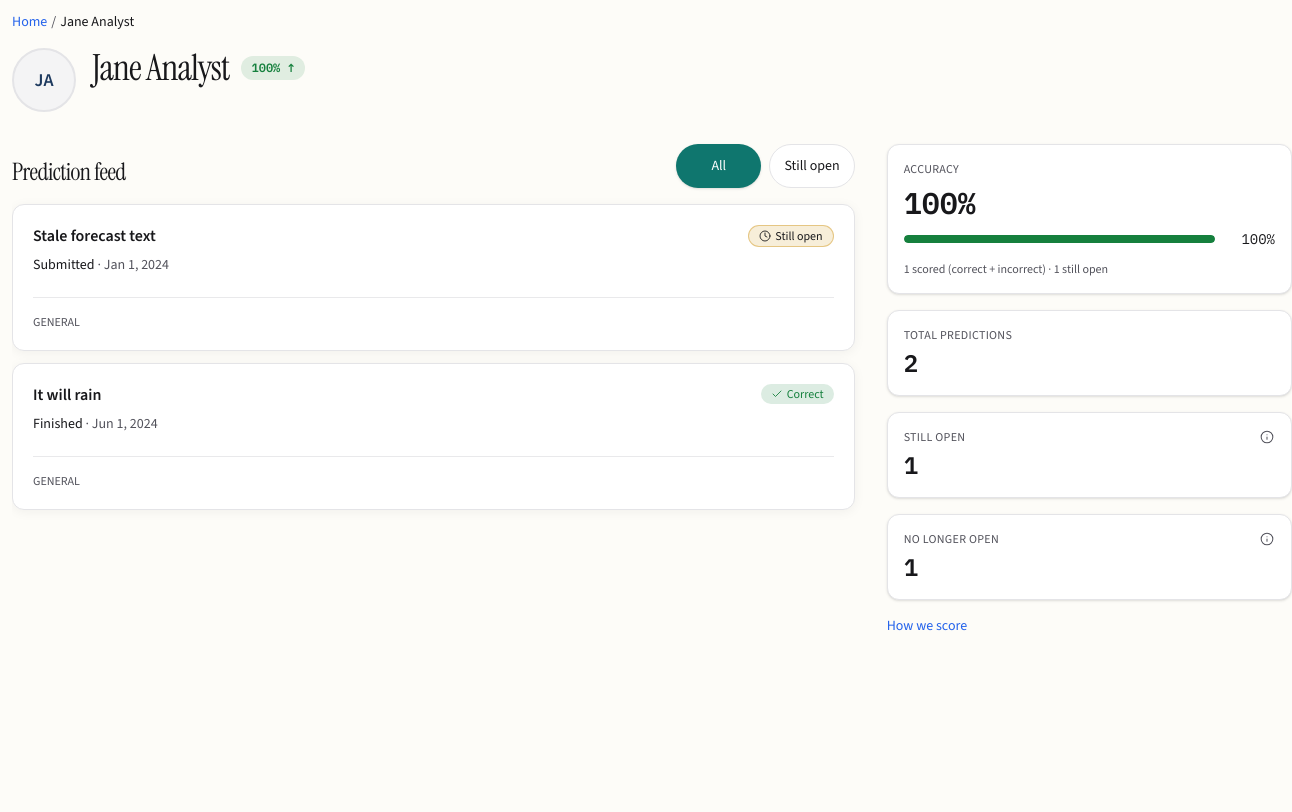
SourceDetailView › given feed fetch error while filtered, should hide stale predictions
What coordinates should you click on to do the following:
click the radio button labelled "Still open"
I would click on:
 (812, 166)
Its box is [769,144,855,188].
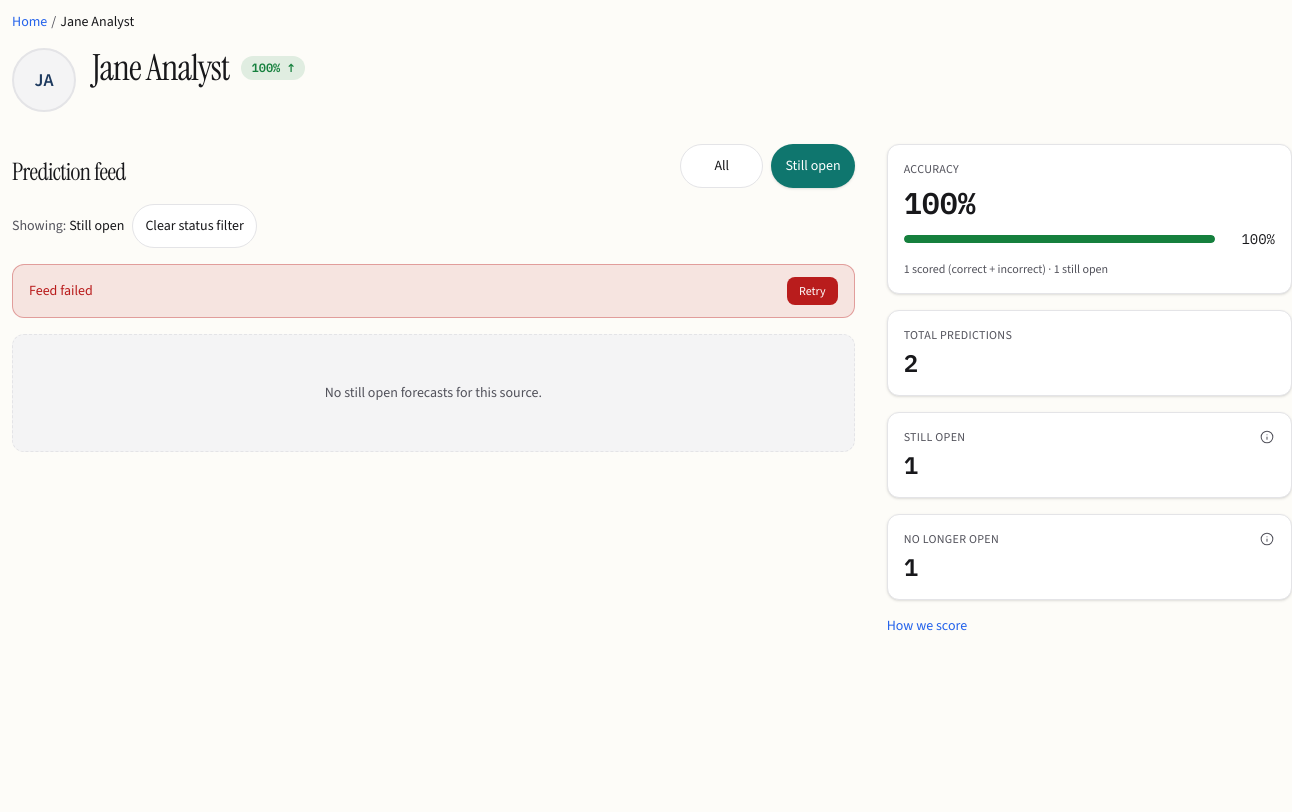
Result: the link "Stale forecast text" is gone
Result: the message "Feed failed Retry" is shown at [12,264,855,318]
